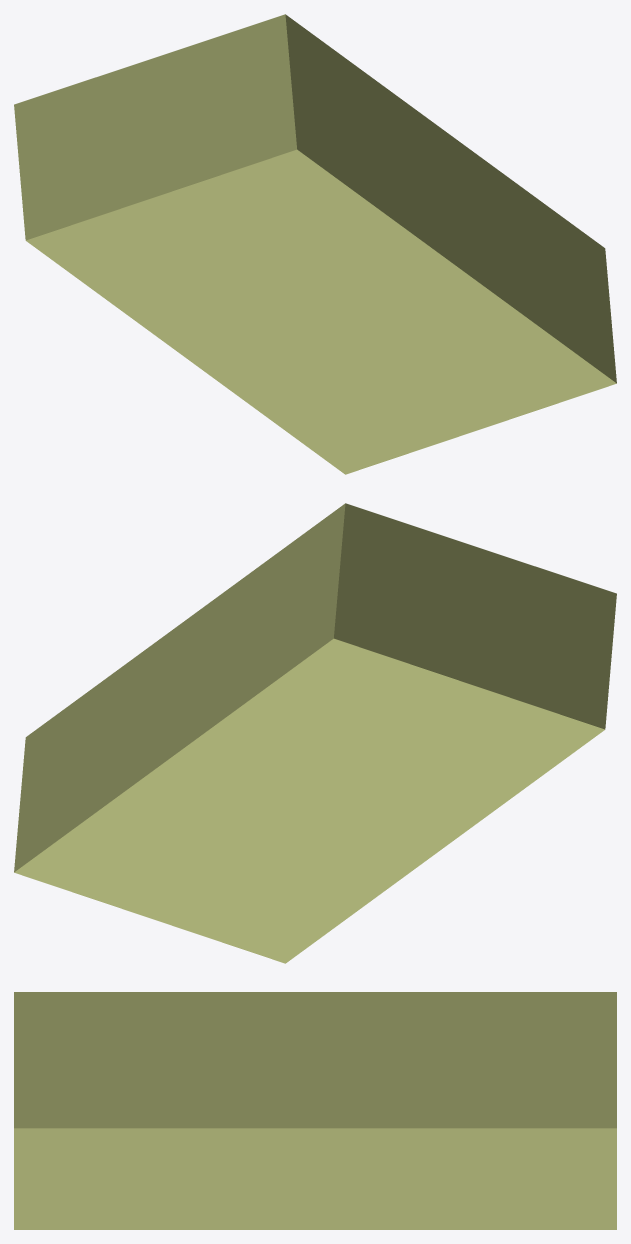
3 views of the same model, one above another, from view 1: azimuth 30°, elevation 25°; view 2: azimuth 150°, elevation 25°; view 3: azimuth 270°, elevation 25° (orthographic). The views are drawn at different scales.
Visible parts, largest first — view 1: 0_2_3_3_3_1_0_3_2_1_3_1; view 2: 0_2_3_3_3_1_0_3_2_1_3_1; view 3: 0_2_3_3_3_1_0_3_2_1_3_1.
Boxes of the visible parts, <box> form: 0_2_3_3_3_1_0_3_2_1_3_1: <box>14,14,616,474</box>; 0_2_3_3_3_1_0_3_2_1_3_1: <box>14,503,616,963</box>; 0_2_3_3_3_1_0_3_2_1_3_1: <box>14,992,616,1229</box>.
Bounding box in the file's own units: 3.07 × 1.69 × 6.
